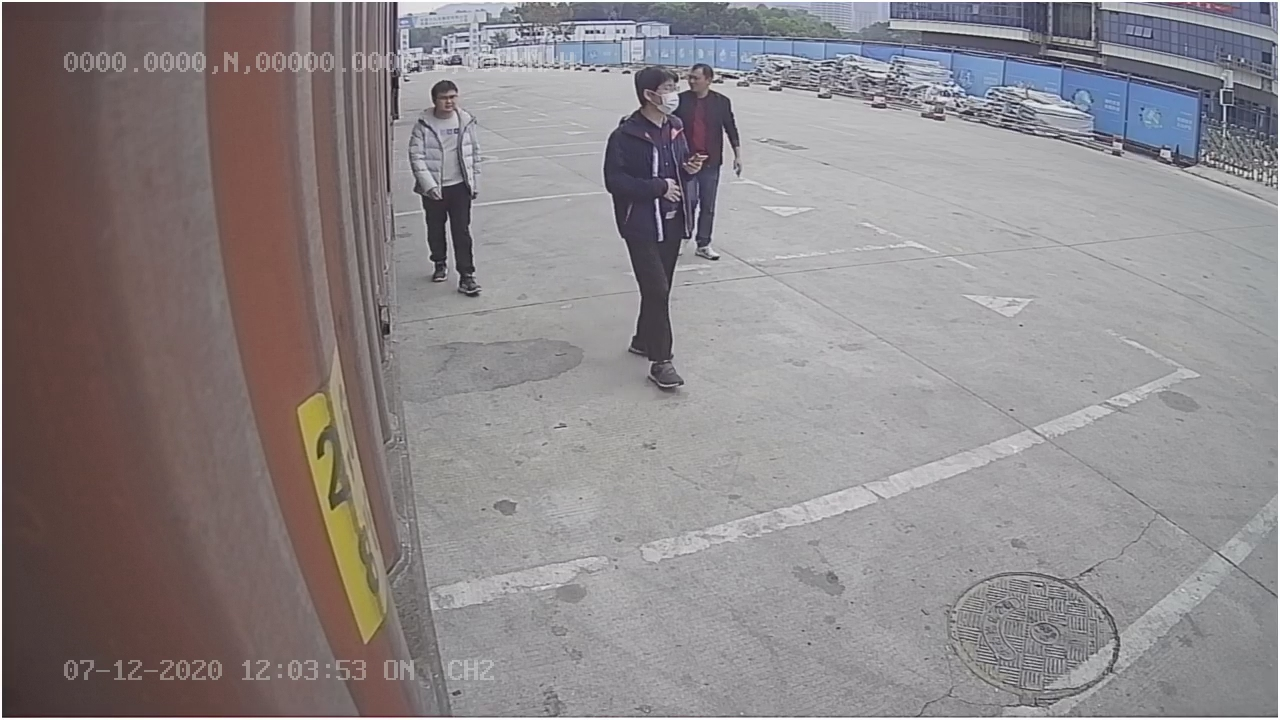person: (403, 79, 485, 298)
